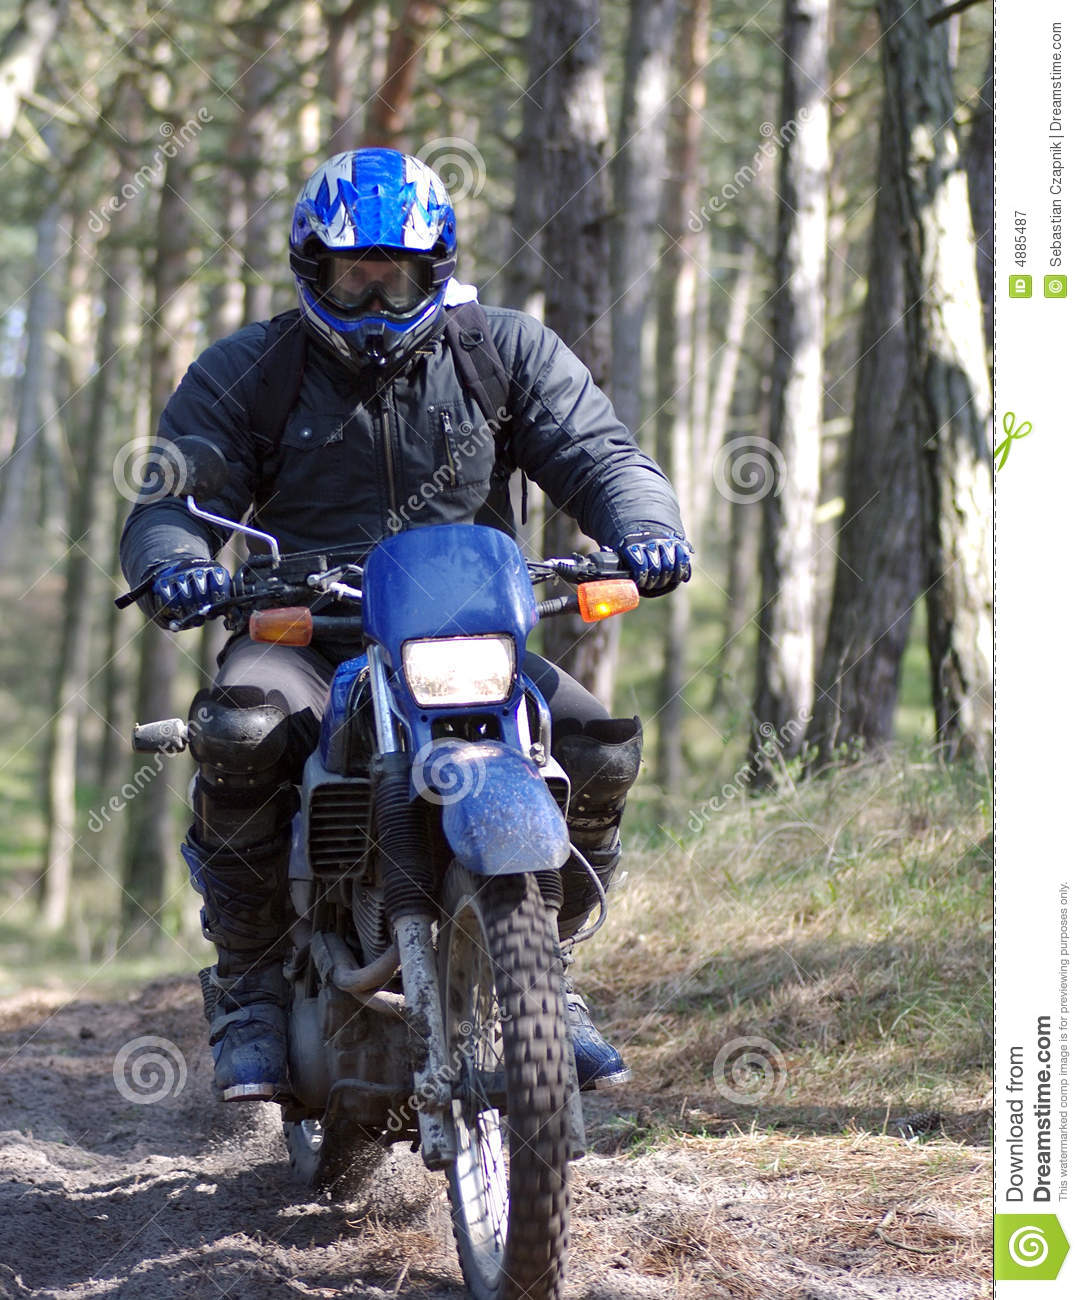helmet: (297, 151, 477, 363)
